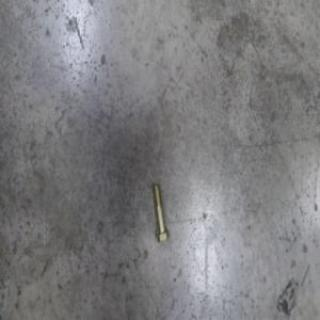Bolttrack_idkeyframe: (151, 183, 170, 244)
